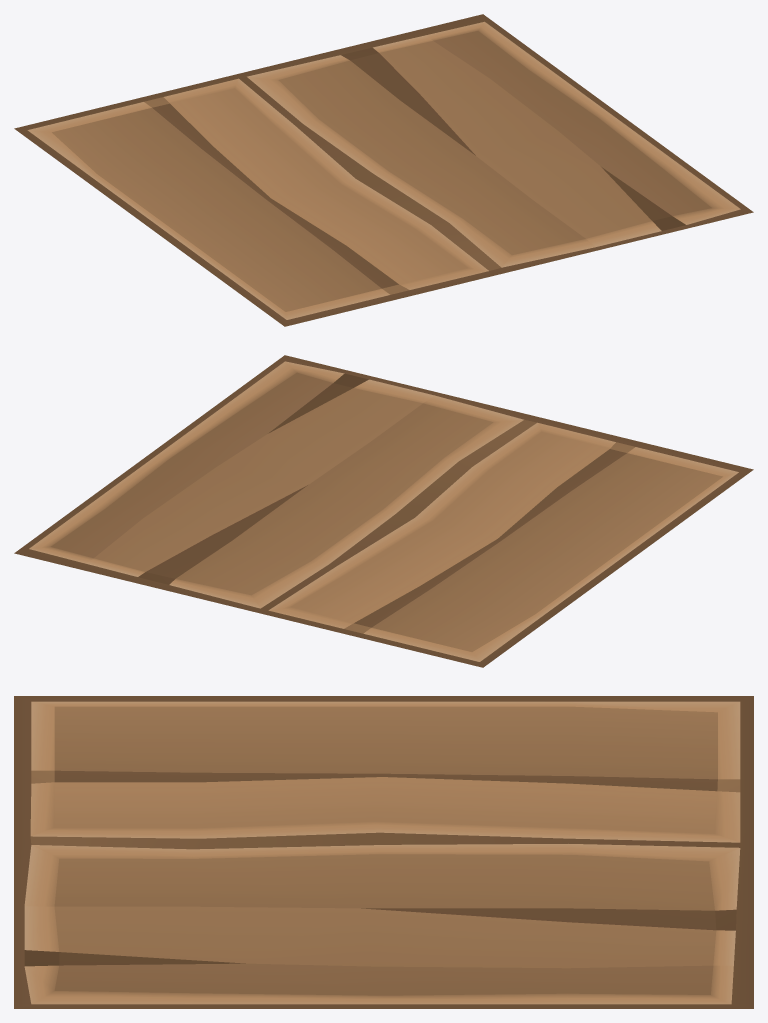
File: wood_floor_01.fbx
3 renders of one model, top to bottom at view 1: azimuth 30°, elevation 25°; view 2: azimuth 150°, elevation 25°; view 3: azimuth 270°, elevation 25°, orthographic. The views are drawn at different scales.
Parts seen in each view (by area): view 1: wood_floor_01; view 2: wood_floor_01; view 3: wood_floor_01.
Boxes of the visible parts, x1,y1,x2,y2 form: wood_floor_01: (14, 14, 753, 326); wood_floor_01: (14, 355, 753, 667); wood_floor_01: (14, 696, 753, 1008).
Size of the model in its own units: 100 by 3.73e-13 by 100.
